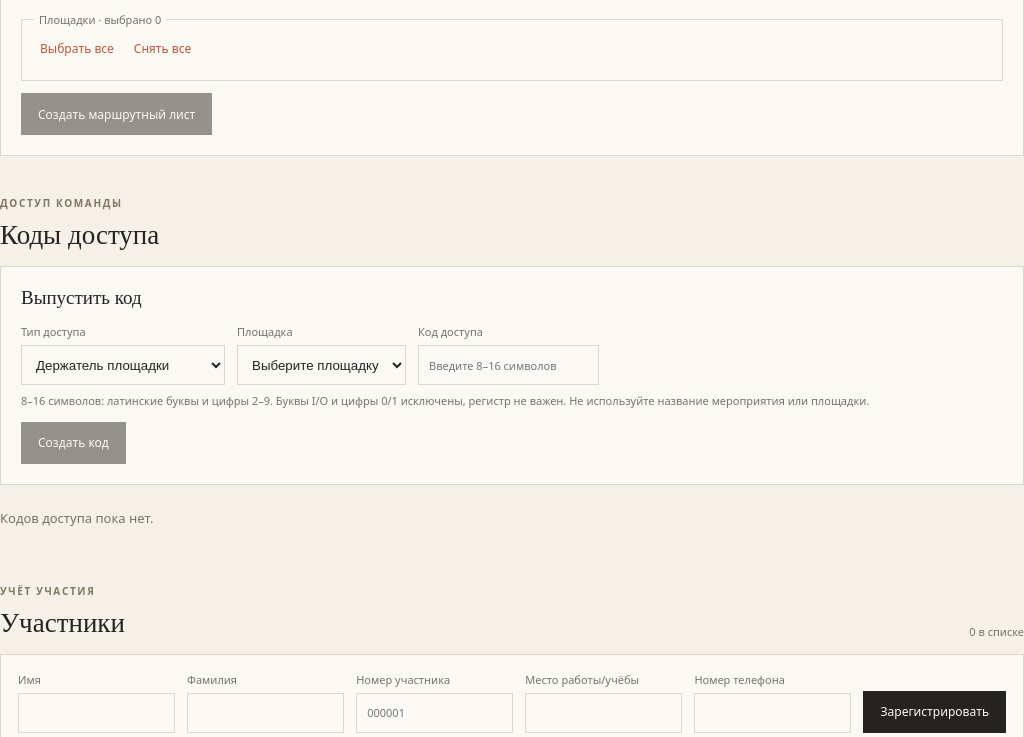
Test: WorkspacePage › creates an event-scoped registrar access code
This screenshot has width=1024, height=737.
(page scrolled)
Select "Регистратор мероприятия" in the dropdown labelled "Тип доступа" at coordinates (123, 365), box [21, 345, 225, 385]
(page scrolled)
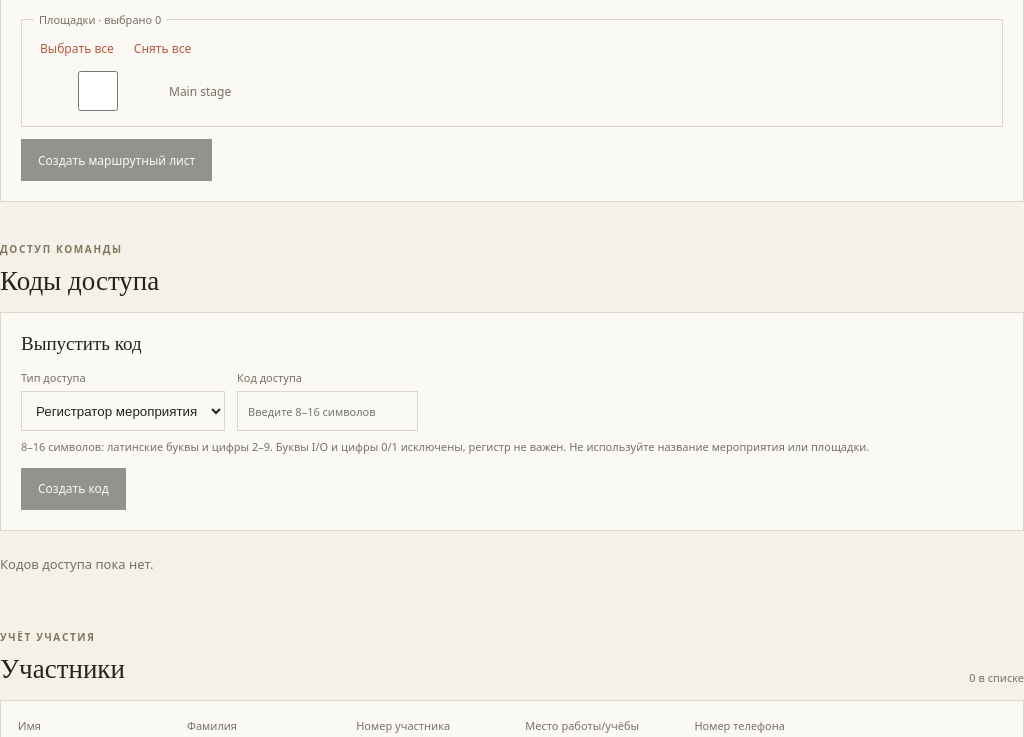
Expected: the field labelled "Площадка" is not shown
Type "REG2STR8" into the field labelled "Код доступа" at coordinates (328, 411), box [237, 391, 418, 431]
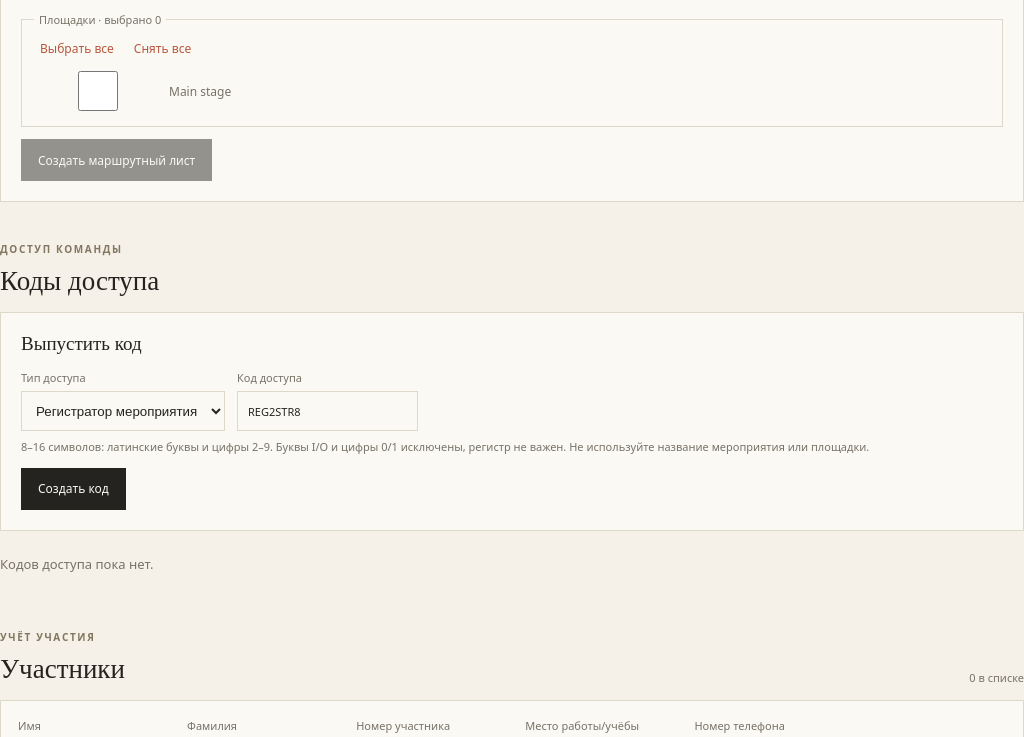
Submit the form named "Создать код", box [0, 312, 1023, 531]
(page scrolled)
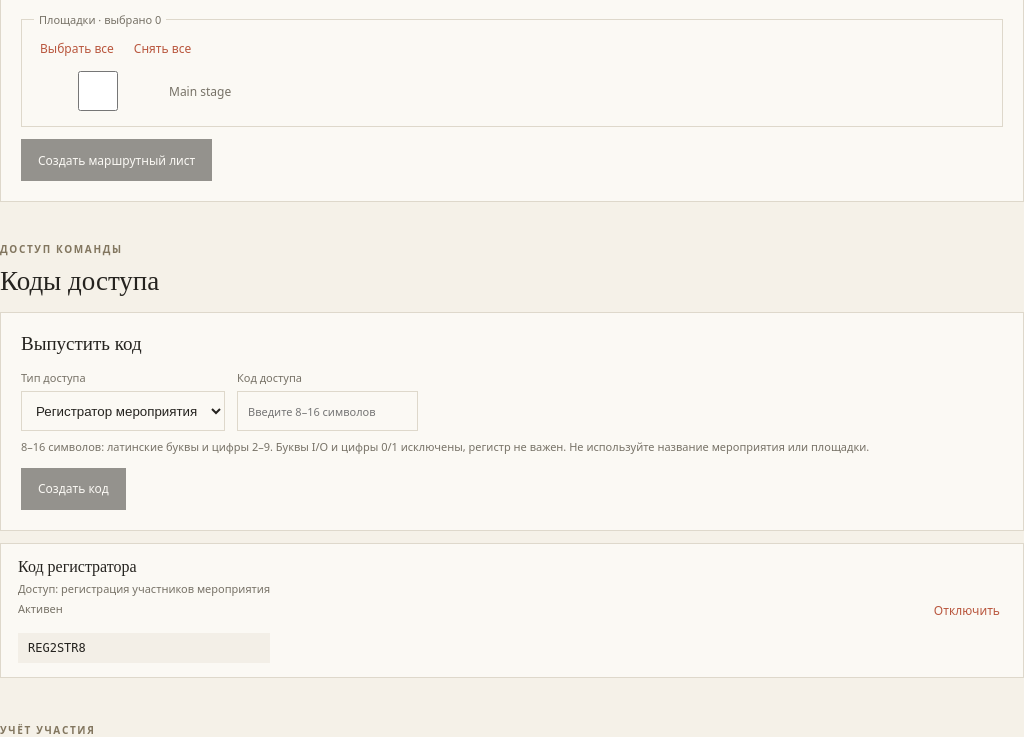
Now the text "REG2STR8" is shown, box [18, 633, 270, 663]
